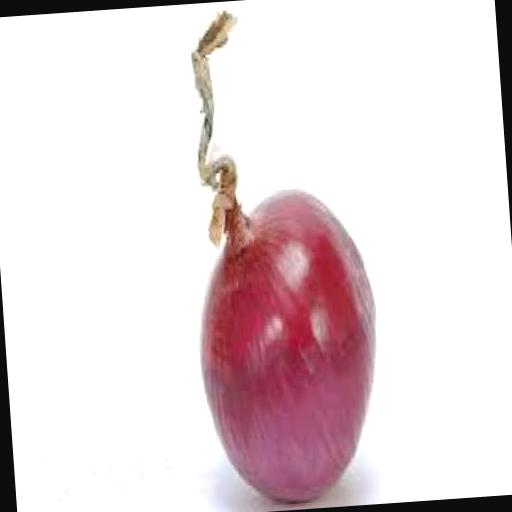biodegradable: (176, 0, 385, 507)
